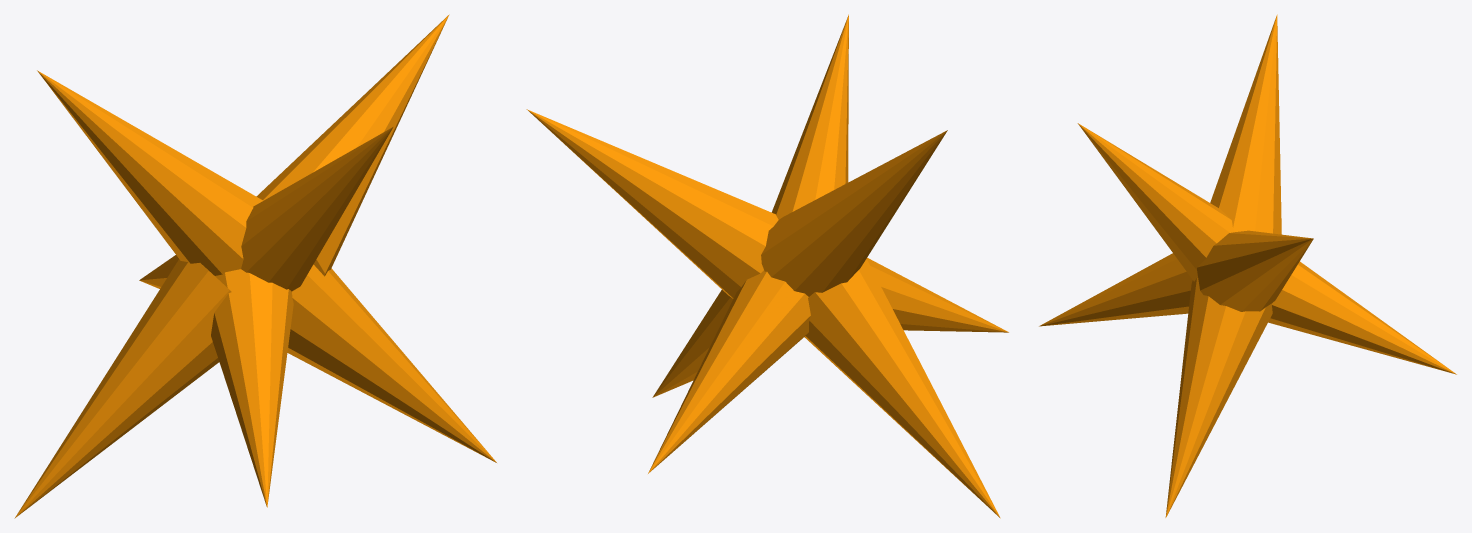
Rendered from Explosion (2).obj.
3 views of the same model, side by side, from view 1: azimuth 30°, elevation 25°; view 2: azimuth 150°, elevation 25°; view 3: azimuth 270°, elevation 25° (orthographic). The views are drawn at different scales.
Visible parts, largest first — view 1: group2119920310, group1498459733, group684562632, group2045747951, group22266007, group1081895512, group648765456; view 2: group2119920310, group1081895512, group1498459733, group648765456, group22266007, group2045747951, group684562632; view 3: group684562632, group1498459733, group22266007, group648765456, group1081895512, group2045747951.
Boxes of the visible parts, <box> form: group2119920310: <box>14,259,231,518</box>; group1498459733: <box>37,70,262,275</box>; group684562632: <box>287,264,496,462</box>; group2045747951: <box>211,269,293,507</box>; group22266007: <box>241,127,393,291</box>; group1081895512: <box>256,14,449,276</box>; group648765456: <box>139,255,178,288</box>; group2119920310: <box>804,259,1000,518</box>; group1081895512: <box>526,109,778,298</box>; group1498459733: <box>761,130,947,296</box>; group648765456: <box>648,270,810,473</box>; group22266007: <box>771,14,848,219</box>; group2045747951: <box>866,257,1008,332</box>; group684562632: <box>652,290,732,397</box>; group684562632: <box>1165,278,1272,517</box>; group1498459733: <box>1210,14,1281,234</box>; group22266007: <box>1077,123,1234,281</box>; group648765456: <box>1268,261,1456,374</box>; group1081895512: <box>1197,230,1313,311</box>; group2045747951: <box>1039,253,1192,326</box>.
Size of the model in its own units: 2.2 by 1.93 by 2.09.
